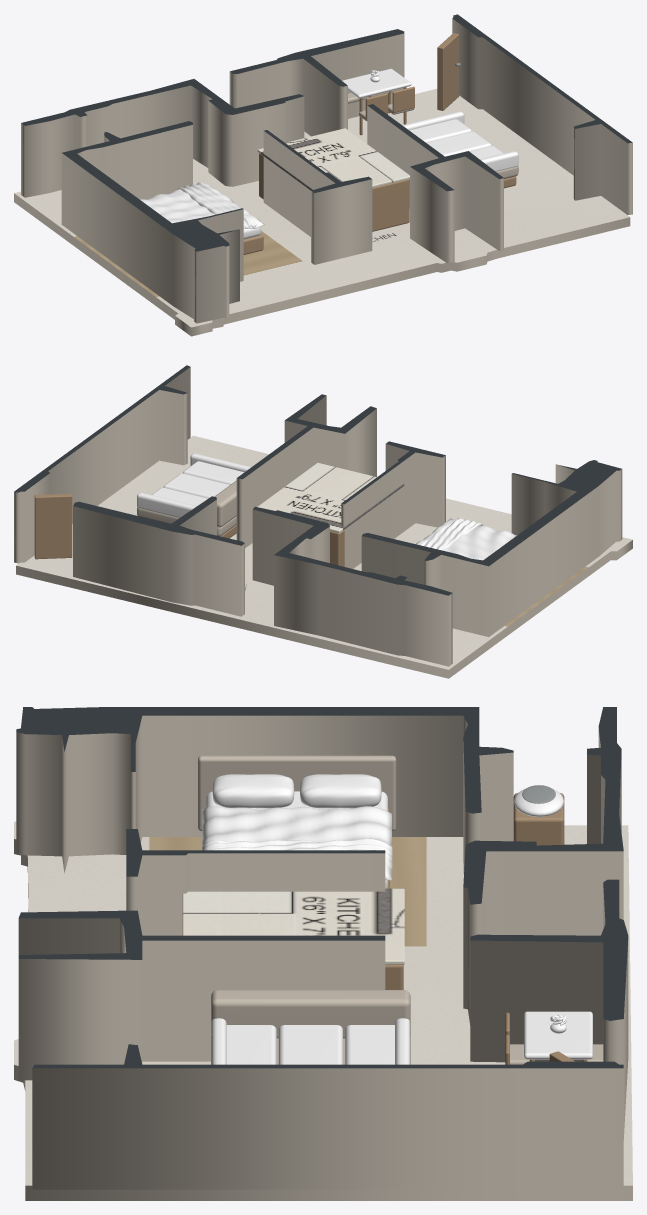
The model's file is carina-vega-unit-01.glb.
The picture shows the model from 3 angles, top to bottom: view 1: azimuth 30°, elevation 25°; view 2: azimuth 150°, elevation 25°; view 3: azimuth 270°, elevation 25°; orthographic projection. The views are drawn at different scales.
Visible parts, largest first — view 1: Partition walls, Apartment floor, Stone worktop, Kitchen cabinets, Draped bed linen, Open oak door, Marble dining top, Draped bed linen.001, Seat cushion.001, Seat cushion.002, Padded armrest, Chair back.001 (+1 smaller); view 2: Partition walls, Apartment floor, Stone worktop, Open oak door, Draped bed linen, Seat cushion.001, Draped bed linen.001, Padded armrest.001, Seat cushion, Sofa back, Upholstered sofa frame, Seat cushion.002 (+2 smaller); view 3: Partition walls, Apartment floor, Stone worktop, Sofa back, Draped bed linen, Upholstered headboard, Marble dining top, Tailored pillow, Tailored pillow.001, Seat cushion.001, Draped bed linen.001, Seat cushion (+5 smaller).
Boxes of the visible parts, box(x1,y1,x2,y2) form: Partition walls: box(21, 14, 632, 323); Apartment floor: box(14, 88, 630, 336); Stone worktop: box(257, 128, 409, 190); Kitchen cabinets: box(259, 153, 409, 231); Draped bed linen: box(140, 183, 264, 229); Open oak door: box(437, 33, 459, 110); Marble dining top: box(342, 68, 411, 98); Draped bed linen.001: box(177, 182, 256, 228); Seat cushion.001: box(426, 131, 491, 156); Seat cushion.002: box(409, 119, 471, 142); Padded armrest: box(480, 151, 518, 171); Chair back.001: box(392, 86, 414, 112); Partition walls: box(14, 365, 622, 666); Apartment floor: box(16, 435, 632, 678); Stone worktop: box(257, 462, 404, 532); Open oak door: box(34, 493, 72, 559); Draped bed linen: box(416, 518, 516, 560); Seat cushion.001: box(163, 473, 229, 498); Draped bed linen.001: box(419, 518, 482, 550); Padded armrest.001: box(137, 492, 220, 527); Seat cushion: box(183, 461, 243, 484); Sofa back: box(214, 480, 236, 527); Upholstered sofa frame: box(137, 507, 236, 536); Seat cushion.002: box(152, 487, 207, 505); Partition walls: box(16, 707, 628, 1189); Apartment floor: box(14, 821, 632, 1200); Stone worktop: box(182, 888, 404, 964); Sofa back: box(211, 990, 410, 1038); Draped bed linen: box(202, 806, 391, 880); Upholstered headboard: box(198, 755, 396, 831); Marble dining top: box(524, 1011, 592, 1059); Tailored pillow: box(212, 774, 294, 808); Tailored pillow.001: box(300, 774, 381, 808); Seat cushion.001: box(278, 1025, 342, 1064); Draped bed linen.001: box(202, 838, 392, 870); Seat cushion: box(226, 1025, 276, 1064).
Bounding box in the file's own units: 8.34 × 1.44 × 5.92.
Materials: 12 (2 with a texture image).
